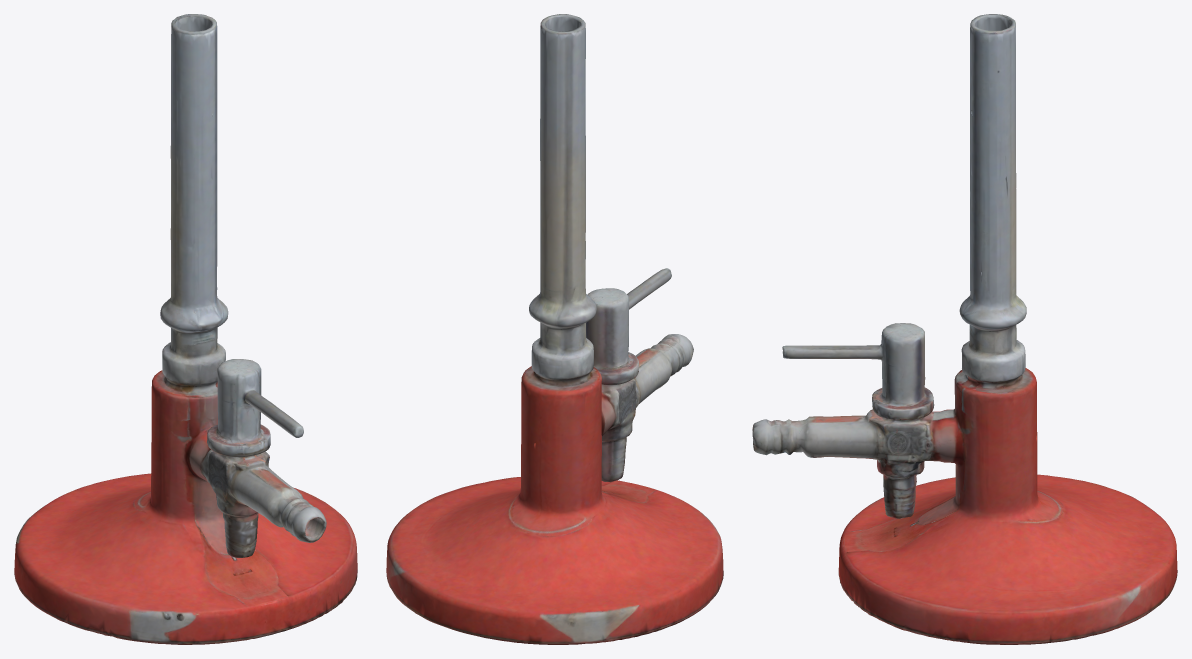
File: Bunsen_Burner_1125073752.fbx
3 renders of one model, left to right at view 1: azimuth 30°, elevation 25°; view 2: azimuth 150°, elevation 25°; view 3: azimuth 270°, elevation 25°, orthographic.
Parts seen in each view (by area): view 1: Mesh_0; view 2: Mesh_0; view 3: Mesh_0.
Part boxes in pixels (x1,y1,x2,y2): Mesh_0: (14, 14, 357, 644); Mesh_0: (386, 14, 723, 644); Mesh_0: (752, 14, 1177, 644).
Size of the model in its own units: 113 by 201 by 140.
1 material, 1 textured.
